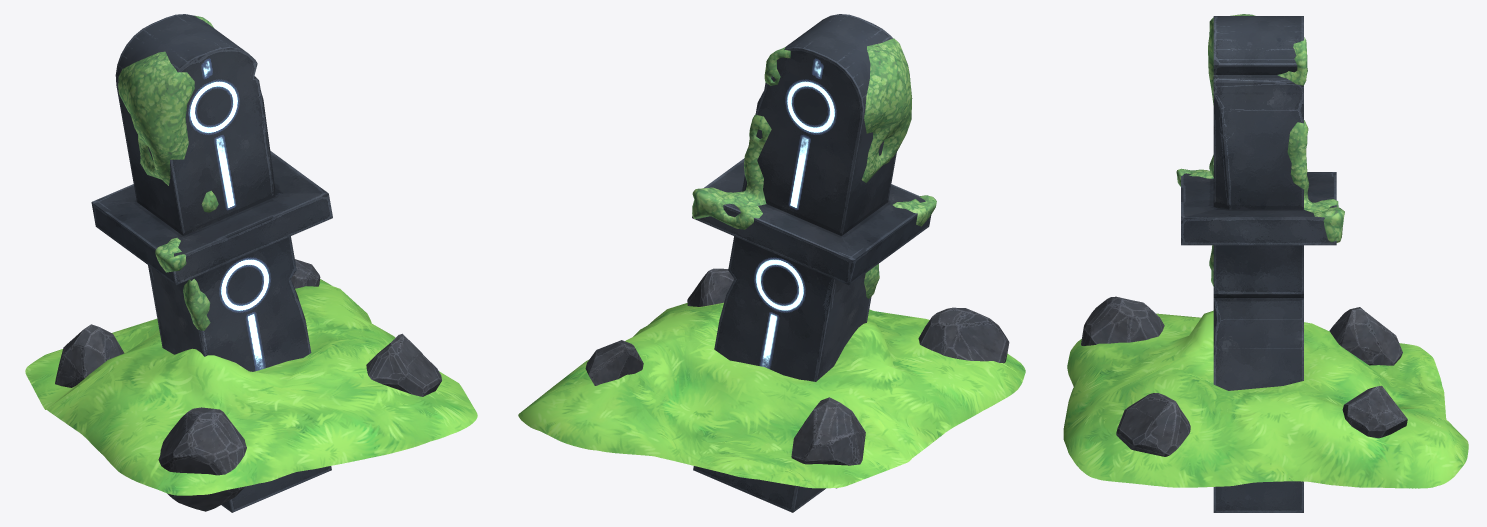
The model's file is Rune_5.fbx.
3 renders of one model, left to right at view 1: azimuth 30°, elevation 25°; view 2: azimuth 150°, elevation 25°; view 3: azimuth 270°, elevation 25°, orthographic. The views are drawn at different scales.
Visible parts, largest first — view 1: rune 5 low, rune 5 grass low, rune 5 moss low, rock 3 low.001, rock 4 low.001, rock 2 low.001, rock 1 low.001; view 2: rune 5 grass low, rune 5 low, rune 5 moss low, rock 2 low.001, rock 3 low.001, rock 1 low.001, rock 4 low.001; view 3: rune 5 grass low, rune 5 low, rune 5 moss low, rock 4 low.001, rock 3 low.001, rock 2 low.001, rock 1 low.001.
Part boxes in pixels (x1,y1,x2,y2): rune 5 low: [91, 14, 332, 512]; rune 5 grass low: [25, 279, 477, 495]; rune 5 moss low: [118, 15, 218, 330]; rock 3 low.001: [158, 407, 246, 511]; rock 4 low.001: [366, 333, 441, 396]; rock 2 low.001: [55, 324, 124, 387]; rock 1 low.001: [291, 259, 320, 288]; rune 5 grass low: [518, 302, 1025, 488]; rune 5 low: [692, 14, 931, 512]; rune 5 moss low: [692, 38, 936, 298]; rock 2 low.001: [791, 397, 865, 488]; rock 3 low.001: [918, 307, 1009, 363]; rock 1 low.001: [585, 340, 643, 385]; rock 4 low.001: [687, 268, 733, 306]; rune 5 grass low: [1063, 310, 1468, 488]; rune 5 low: [1181, 16, 1336, 512]; rune 5 moss low: [1176, 14, 1344, 286]; rock 4 low.001: [1116, 393, 1190, 456]; rock 3 low.001: [1081, 296, 1164, 345]; rock 2 low.001: [1329, 307, 1402, 365]; rock 1 low.001: [1342, 385, 1407, 438].
Bounding box in the file's own units: 402 × 502 × 414.
7 materials, 7 textured.
